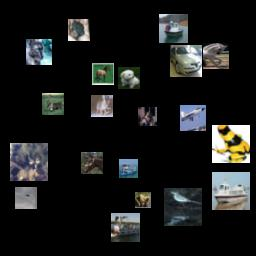airplane: (180, 105, 206, 131), (15, 187, 37, 209)
automobile: (170, 45, 202, 77)
bird: (164, 188, 202, 226)
cat: (26, 39, 52, 65), (91, 95, 113, 117)
deer: (10, 143, 48, 181), (42, 93, 64, 115)
dog: (118, 67, 140, 89), (138, 107, 157, 126)
frog: (212, 125, 250, 163), (68, 19, 90, 41), (135, 192, 151, 208)
ship: (212, 172, 250, 210), (111, 213, 140, 242), (159, 14, 188, 43), (119, 159, 138, 178)
